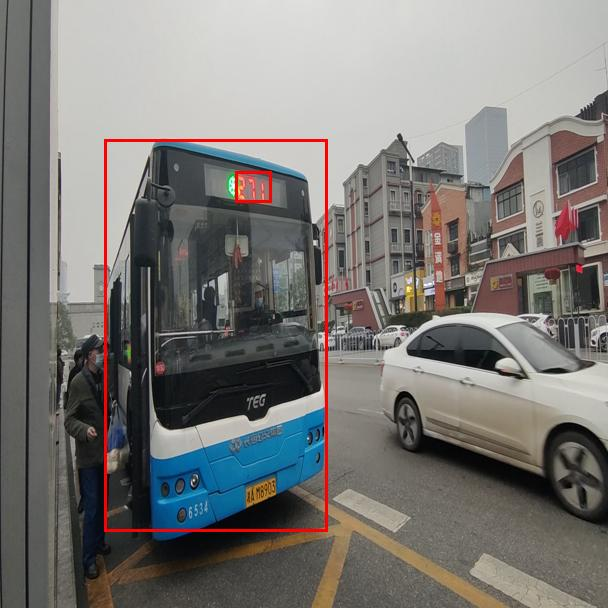bus: (104, 139, 327, 531)
screen: (235, 171, 271, 202)
